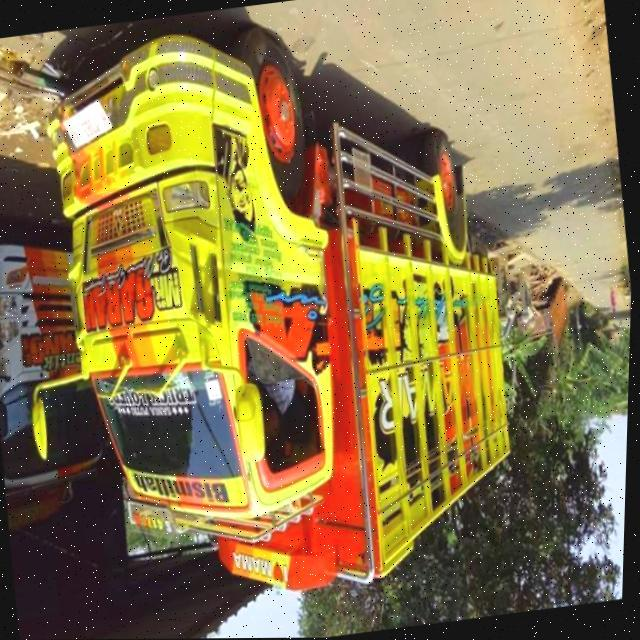truck: (0, 0, 542, 632)
